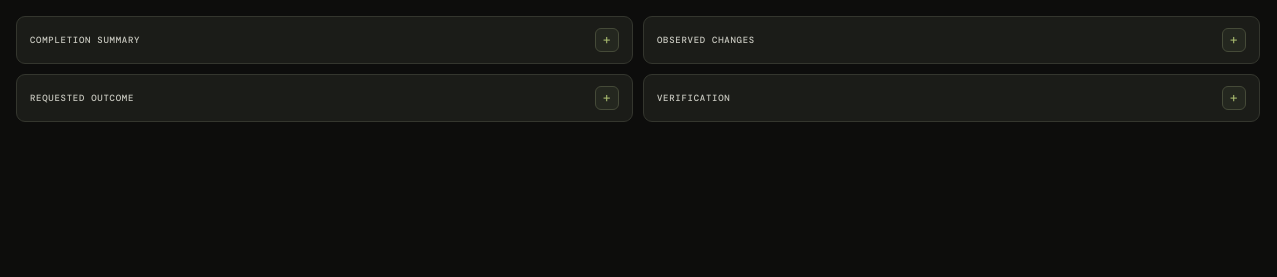
Test case: AgentRunReviewHandoffCard › keeps handoff details closed until the reviewer opens one
Expected: the number of elements with class "review-handoff-section" is 4, top-left (16, 16), bottom-right (633, 64); top-left (643, 16), bottom-right (1260, 64); top-left (16, 74), bottom-right (633, 122); top-left (643, 74), bottom-right (1260, 122)
Click the heading "Verification". click: (694, 98)
box: top-left (657, 92), bottom-right (730, 104)
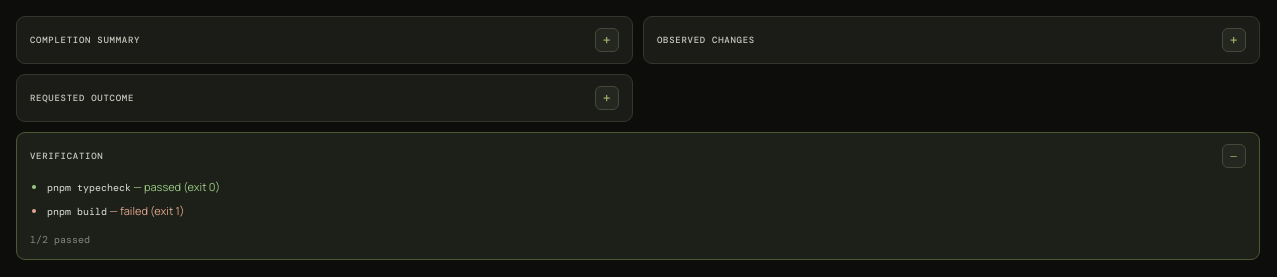
Expected: the text "pnpm typecheck" is shown, top-left (47, 181), bottom-right (131, 194)
Expected: the text "1/2 passed" is shown, top-left (30, 233), bottom-right (90, 246)
